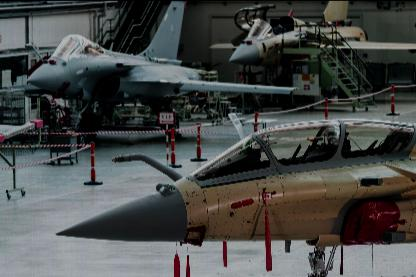RQ4: (53, 117, 415, 276), (0, 0, 301, 148), (209, 0, 416, 106)
